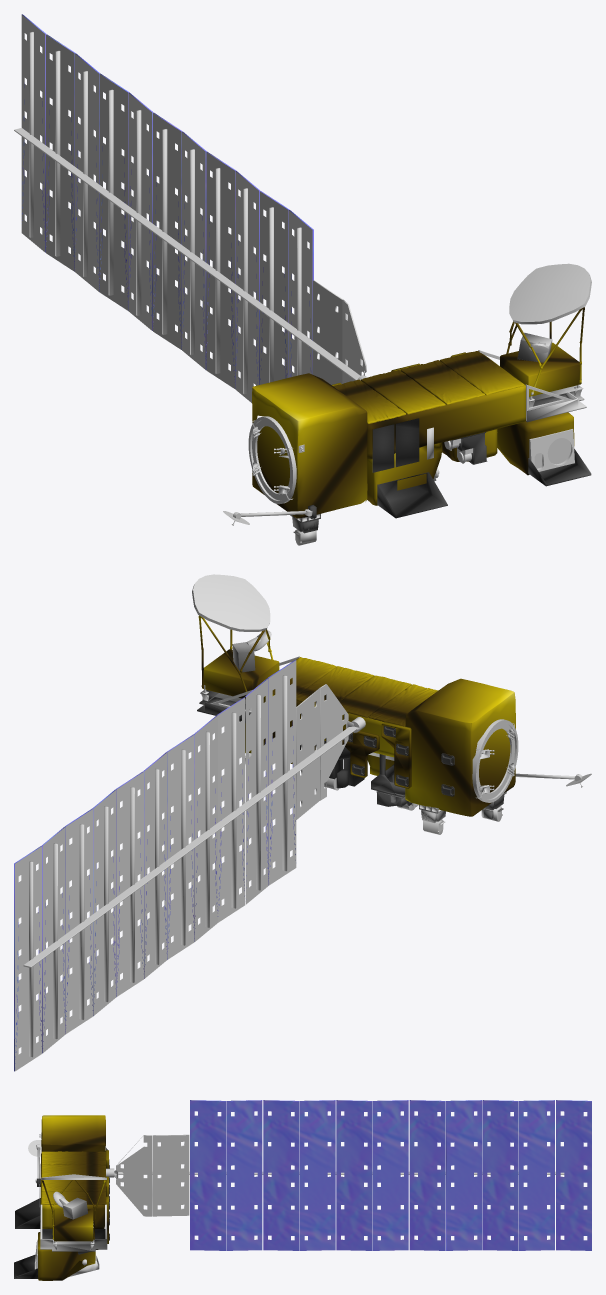
Rendered from nasa-aqua-satellite.gltf.
The picture shows the model from 3 angles, top to bottom: view 1: azimuth 30°, elevation 25°; view 2: azimuth 150°, elevation 25°; view 3: azimuth 270°, elevation 25°; orthographic projection. The views are drawn at different scales.
Visible parts, largest first — view 1: tex_01_Default_006, foil_gold_Default_002, foil_silver_Default_001, gold_2_Default_000, shiny_panel_Default_005; view 2: tex_01_Default_006, foil_gold_Default_002, gold_2_Default_000, foil_silver_Default_001, shiny_panel_Default_005; view 3: shiny_panel_Default_005, tex_01_Default_006, foil_gold_Default_002, gold_2_Default_000, foil_silver_Default_001.
Part boxes in pixels (<box>): tex_01_Default_006: <box>14,15,591,545</box>; foil_gold_Default_002: <box>252,307,584,518</box>; foil_silver_Default_001: <box>290,332,591,535</box>; gold_2_Default_000: <box>333,351,524,423</box>; shiny_panel_Default_005: <box>21,14,313,388</box>; tex_01_Default_006: <box>15,574,591,1071</box>; foil_gold_Default_002: <box>198,615,515,816</box>; gold_2_Default_000: <box>272,657,438,726</box>; foil_silver_Default_001: <box>197,642,506,822</box>; shiny_panel_Default_005: <box>14,660,295,1071</box>; shiny_panel_Default_005: <box>190,1100,591,1250</box>; tex_01_Default_006: <box>28,1133,564,1269</box>; foil_gold_Default_002: <box>37,1115,108,1280</box>; gold_2_Default_000: <box>41,1151,105,1204</box>; foil_silver_Default_001: <box>14,1148,109,1278</box>.
Bounding box in the file's own units: 9.4 × 5.08 × 17.78.
Materials: 5 (3 with a texture image).
